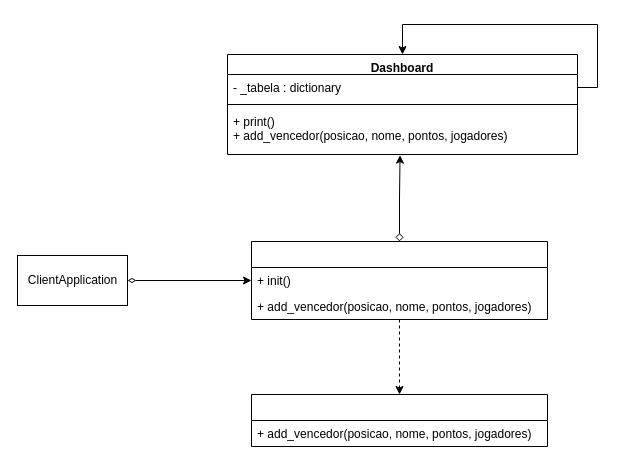
This 623x467 diagram has some shape labels left out. The box of each missing label's shape, as (x1, y1, x2, y2) in pixels:
IJogo: (250, 394, 548, 446)
Jogo: (250, 240, 548, 320)
